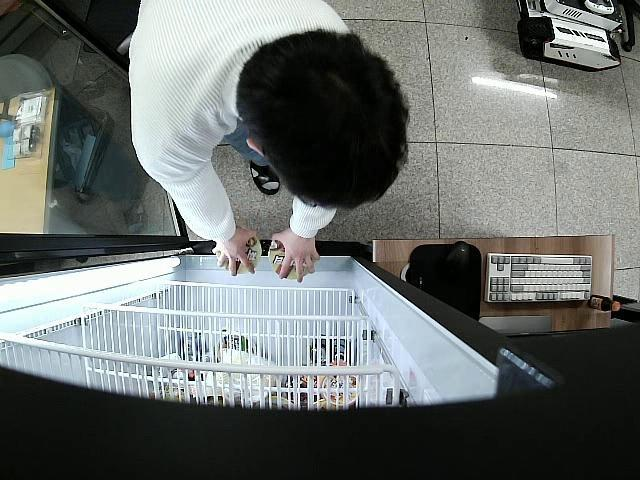03_chapagetti_L: (267, 238, 312, 280), (220, 230, 262, 272)
